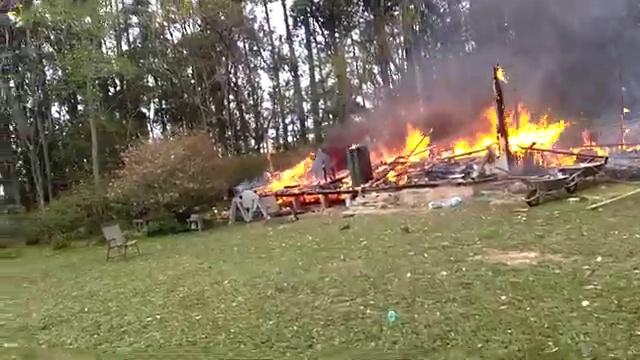fire: (507, 127, 562, 149), (455, 131, 495, 156), (407, 132, 429, 161)
smoke: (539, 15, 605, 104), (403, 77, 497, 117)
